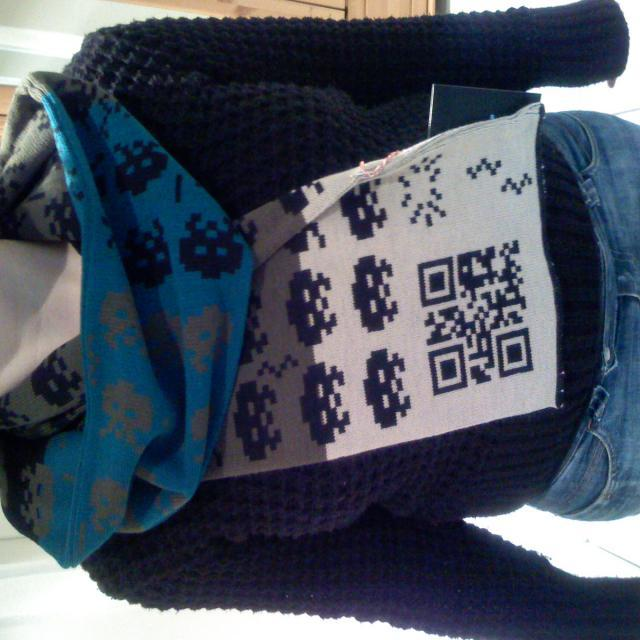qrcode: (418, 241, 534, 396)
